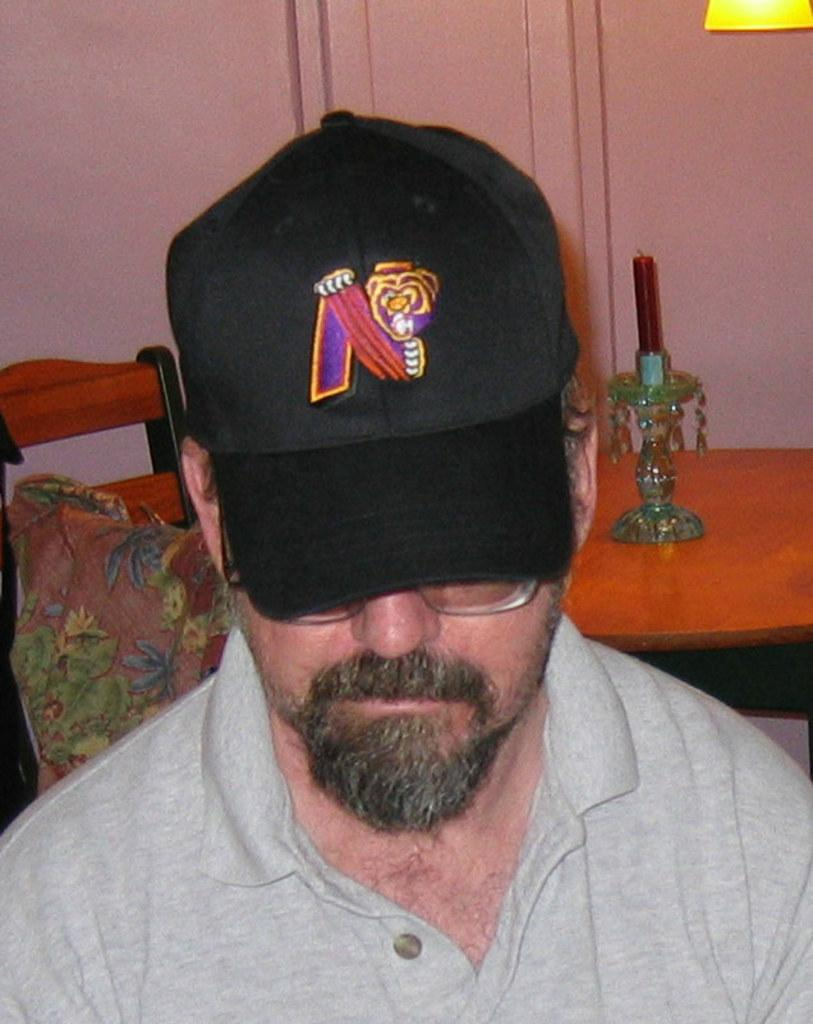Hat: (164, 104, 582, 626)
